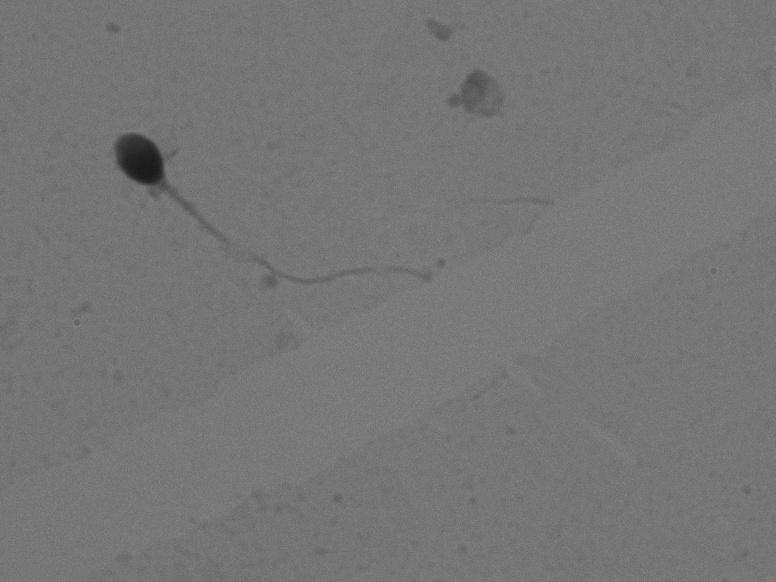Abnormal: (81, 82, 443, 325)
